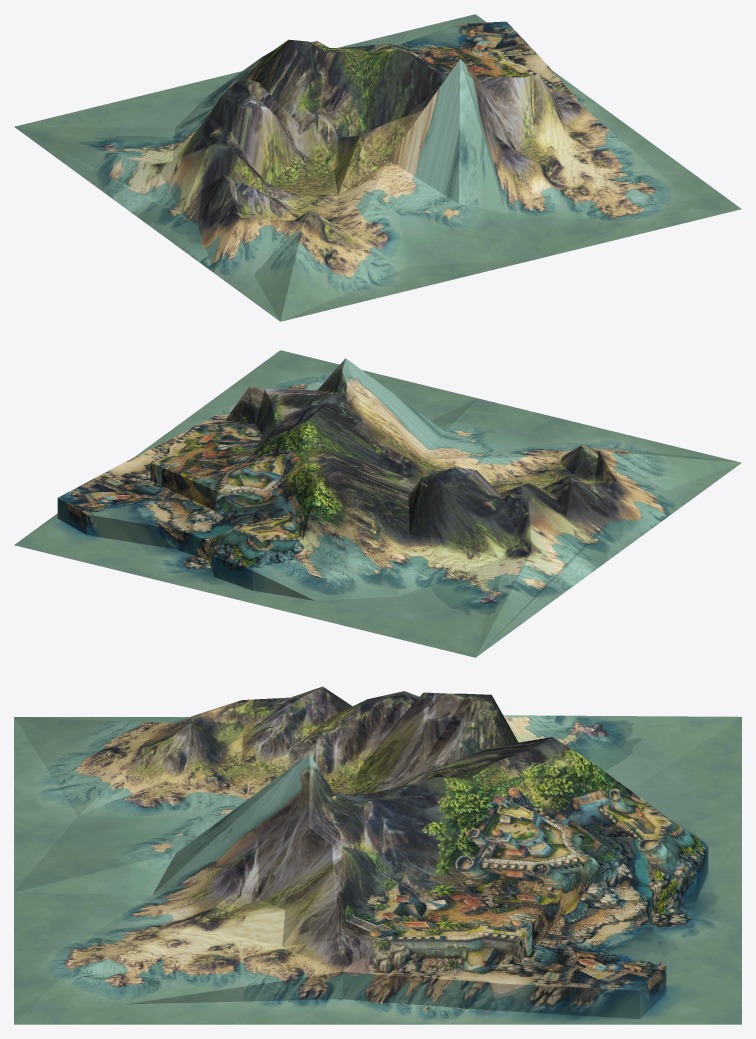
The model's file is F_TradingIsland_01.fbx.
3 renders of one model, top to bottom at view 1: azimuth 30°, elevation 25°; view 2: azimuth 150°, elevation 25°; view 3: azimuth 270°, elevation 25°, orthographic. The views are drawn at different scales.
Visible parts, largest first — view 1: F_TradingIsland_01; view 2: F_TradingIsland_01; view 3: F_TradingIsland_01.
Part boxes in pixels (x1,y1,x2,y2): F_TradingIsland_01: [14, 14, 741, 321]; F_TradingIsland_01: [14, 350, 741, 657]; F_TradingIsland_01: [14, 686, 741, 1024].
Size of the model in its own units: 6 by 1.41 by 6.
Materials: 1 (1 with a texture image).
